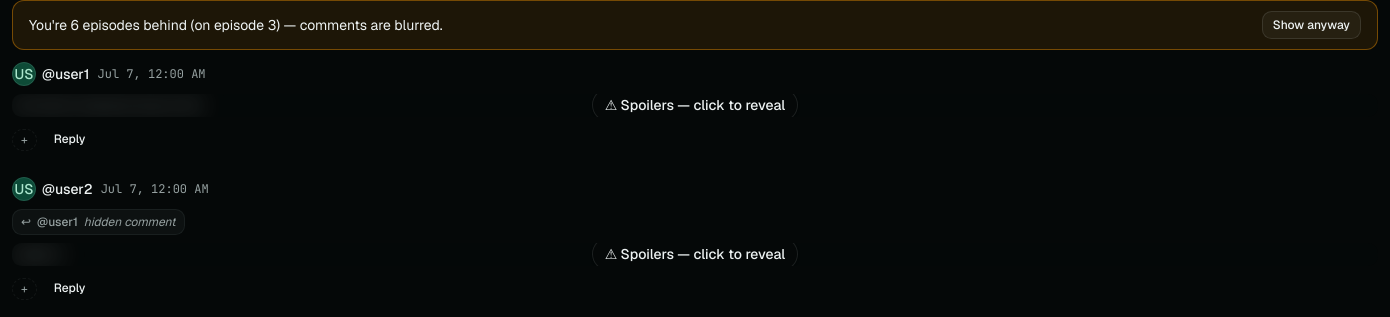
Test: EpisodeSpoilerShield › reveal-all is a toggle
Click the button "Show anyway" at (1311, 25), box [1262,11,1361,39]
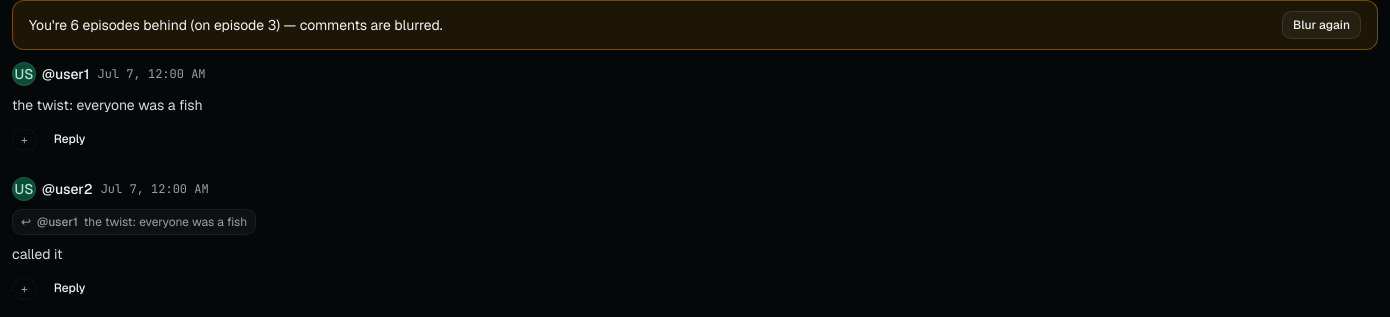
Expected: the text "the twist: everyone was a fish" is shown 2 times, [12,96,202,114]; [84,214,247,230]
Expected: no elements with test id "spoiler-guard" are shown
Click the button "Blur again" at (1322, 25), box [1282,11,1361,39]
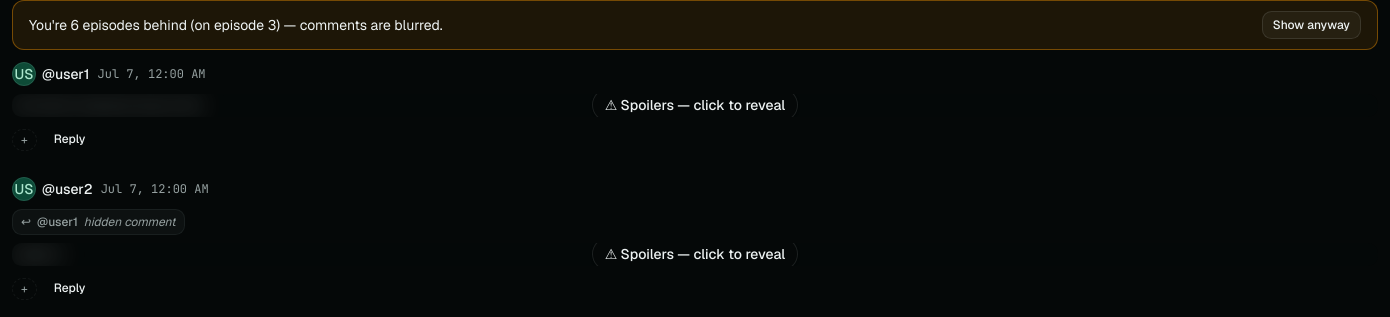
Expected: the number of elements with test id "spoiler-guard" is 2, [12,94,1378,117]; [12,243,1378,266]
